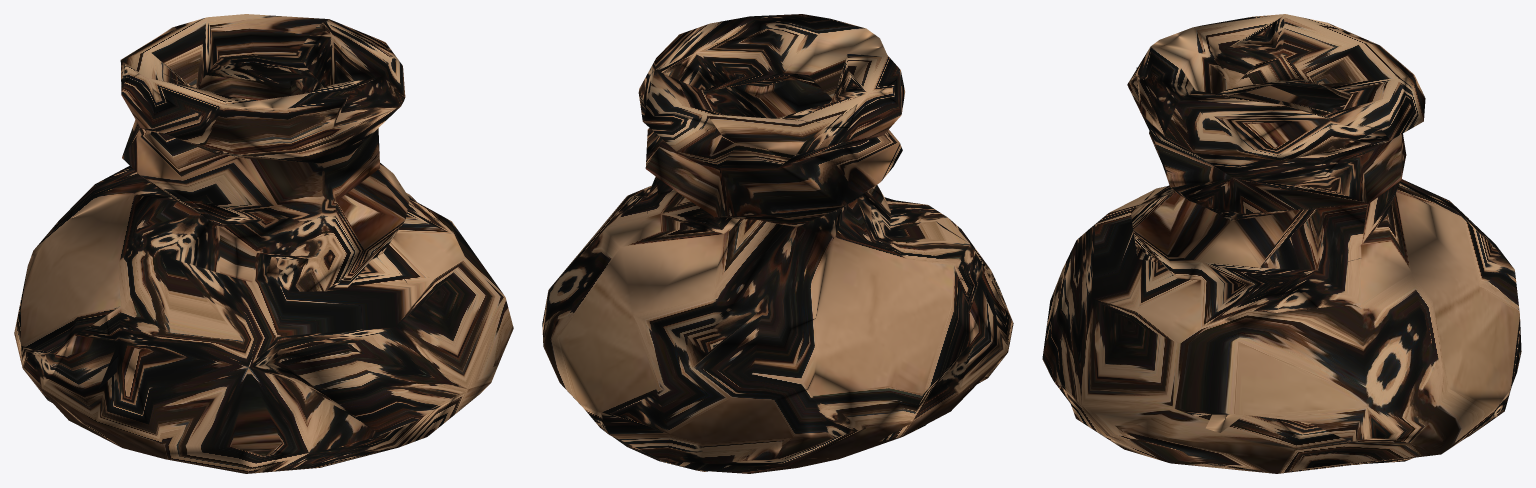
The model's file is sandbags.glb.
3 renders of one model, left to right at view 1: azimuth 30°, elevation 25°; view 2: azimuth 150°, elevation 25°; view 3: azimuth 270°, elevation 25°, orthographic. The views are drawn at different scales.
Visible parts, largest first — view 1: sandbags; view 2: sandbags; view 3: sandbags.
Boxes of the visible parts, x1,y1,x2,y2 form: sandbags: (14,14,513,473); sandbags: (542,14,1013,473); sandbags: (1042,14,1521,473).
Size of the model in its own units: 0.9846 by 0.8225 by 0.9843.
1 material, 1 textured.
